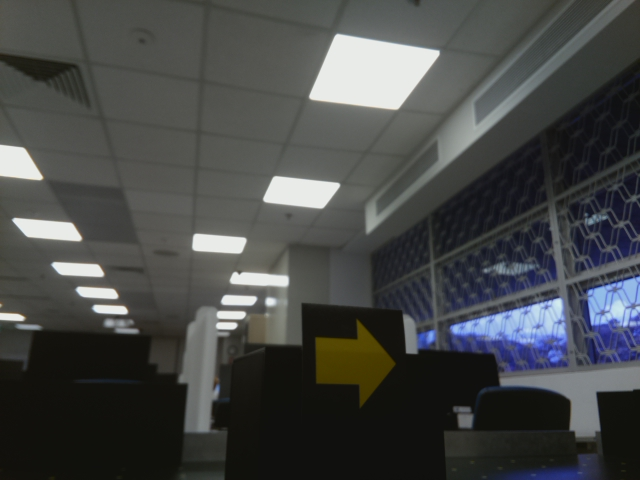right: (300, 311, 403, 417)
